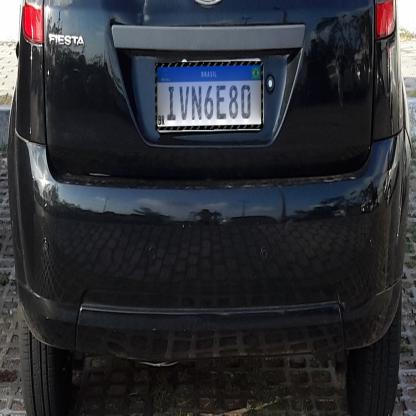PlacaM: (155, 62, 263, 130)
